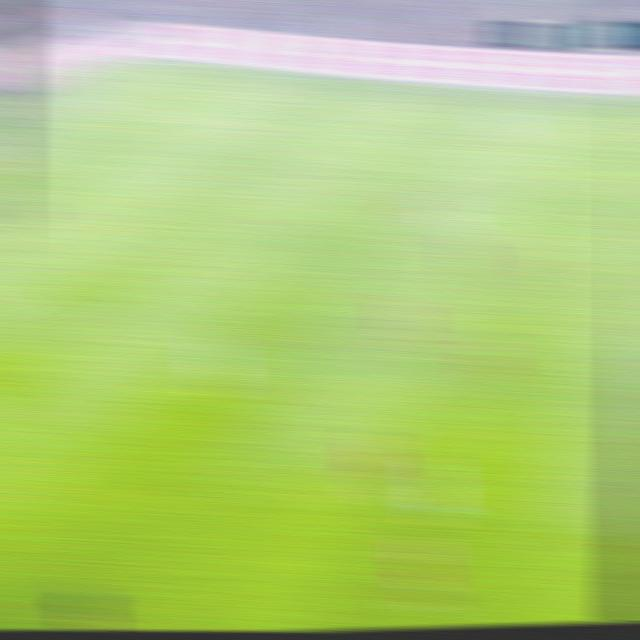bigarea_top_inner: (231, 113, 272, 136)
bigarea_top_outter: (41, 91, 81, 107)
bottom_arc_area_intersection: (51, 249, 92, 274)
corner: (120, 49, 168, 69)
smallarea_top_inner: (28, 139, 69, 161)
top_arc_area_intersection: (161, 165, 202, 190)
